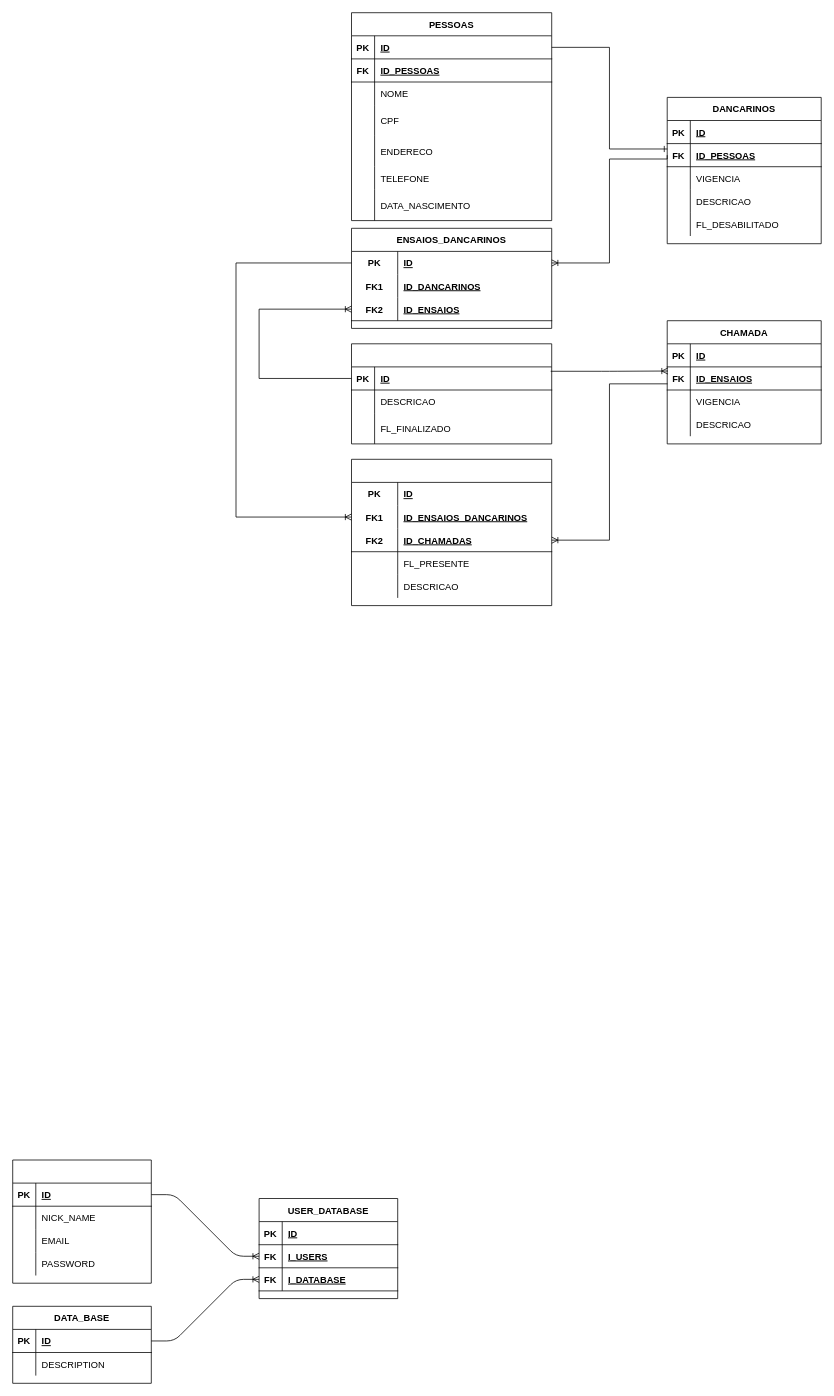
Image size: 834x1396. Some labels were removed from this diagram. The shapes that lost their labels are listed below. From the top down, each one's box as (x1, y1, x2, y2) in pixels, then its label:
(351, 343, 552, 444): ENSAIOS
(351, 459, 552, 606): DANCARINOS_CHAMADAS
(12, 1159, 151, 1283): USER
